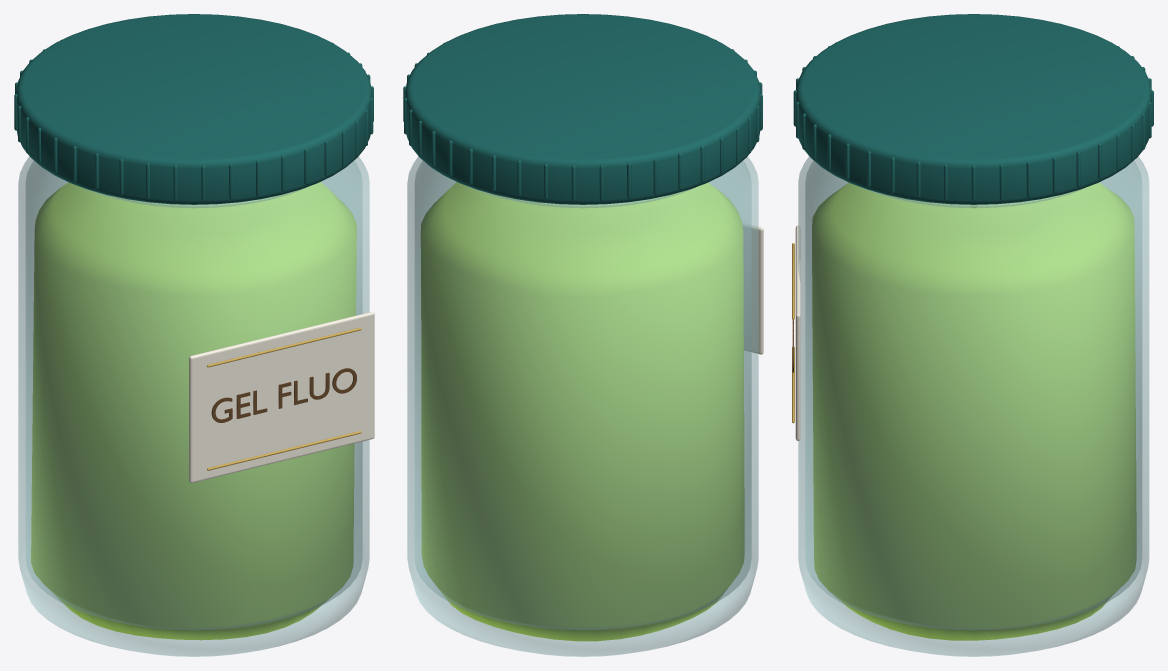
The model's file is jar_slime.glb.
The picture shows the model from 3 angles, left to right: view 1: azimuth 30°, elevation 25°; view 2: azimuth 150°, elevation 25°; view 3: azimuth 270°, elevation 25°; orthographic projection.
Parts seen in each view (by area): view 1: Hollow_jar_glass, Continuous_fluorescent_gel, Separate_screw_lid, Cream_paper_label, Label_GEL FLUO, Glass_thread, Label_gold_rule.001, Label_gold_rule; view 2: Hollow_jar_glass, Continuous_fluorescent_gel, Separate_screw_lid, Cream_paper_label, Glass_thread; view 3: Hollow_jar_glass, Continuous_fluorescent_gel, Separate_screw_lid, Cream_paper_label, Glass_thread.
Part boxes in pixels (box(x1,y1,x2,y2)): Hollow_jar_glass: box(18, 156, 369, 656); Continuous_fluorescent_gel: box(31, 182, 356, 640); Separate_screw_lid: box(16, 14, 371, 204); Cream_paper_label: box(189, 312, 374, 482); Label_GEL FLUO: box(211, 368, 356, 422); Glass_thread: box(81, 187, 306, 208); Label_gold_rule.001: box(207, 327, 361, 367); Label_gold_rule: box(207, 431, 361, 470); Hollow_jar_glass: box(407, 156, 758, 656); Continuous_fluorescent_gel: box(420, 182, 744, 641); Separate_screw_lid: box(405, 14, 760, 204); Cream_paper_label: box(742, 223, 763, 354); Glass_thread: box(470, 187, 695, 208); Hollow_jar_glass: box(798, 156, 1149, 656); Continuous_fluorescent_gel: box(812, 183, 1136, 640); Separate_screw_lid: box(796, 14, 1151, 204); Cream_paper_label: box(795, 225, 800, 440); Glass_thread: box(861, 187, 1086, 208).
Size of the model in its own units: 0.1518 by 0.2395 by 0.1525.
